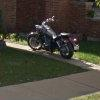Motorcycle: (19, 15, 81, 60)
